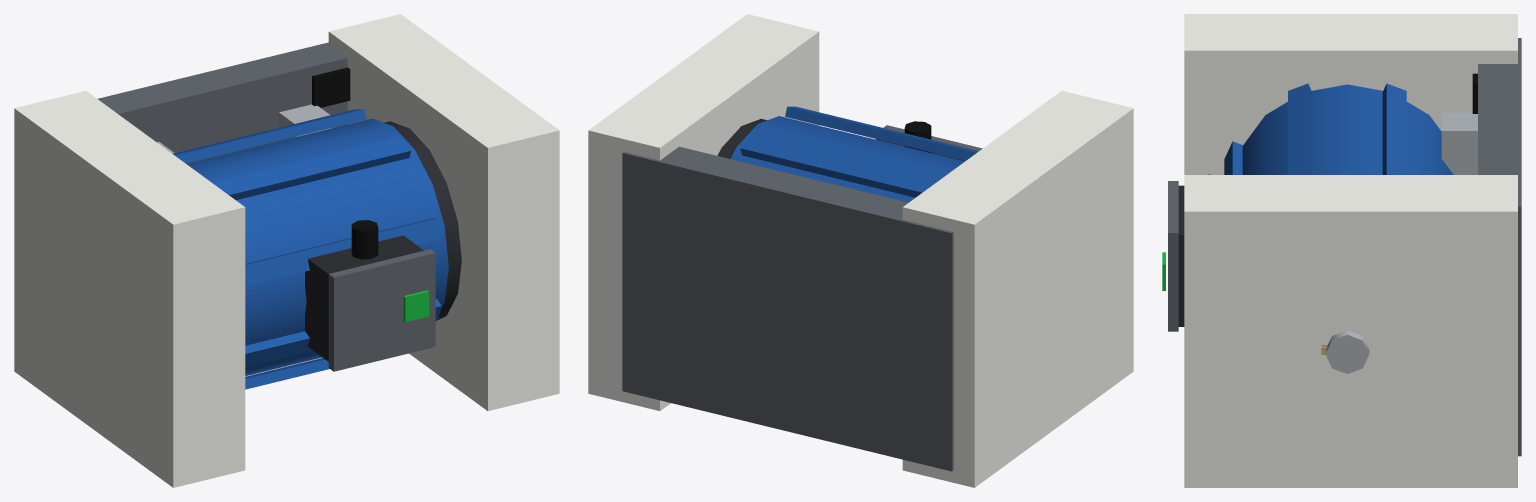
File: item_p1.obj
The picture shows the model from 3 angles, left to right: view 1: azimuth 30°, elevation 25°; view 2: azimuth 150°, elevation 25°; view 3: azimuth 270°, elevation 25°; orthographic projection. The views are drawn at different scales.
Parts seen in each view (by area): view 1: item_p1; view 2: item_p1; view 3: item_p1.
Boxes of the visible parts, bbox=[...] form: item_p1: bbox=[14, 14, 559, 487]; item_p1: bbox=[588, 14, 1133, 487]; item_p1: bbox=[1162, 14, 1521, 487].
Size of the model in its own units: 0.132 by 0.084 by 0.099.
Materials: 1 (1 with a texture image).
